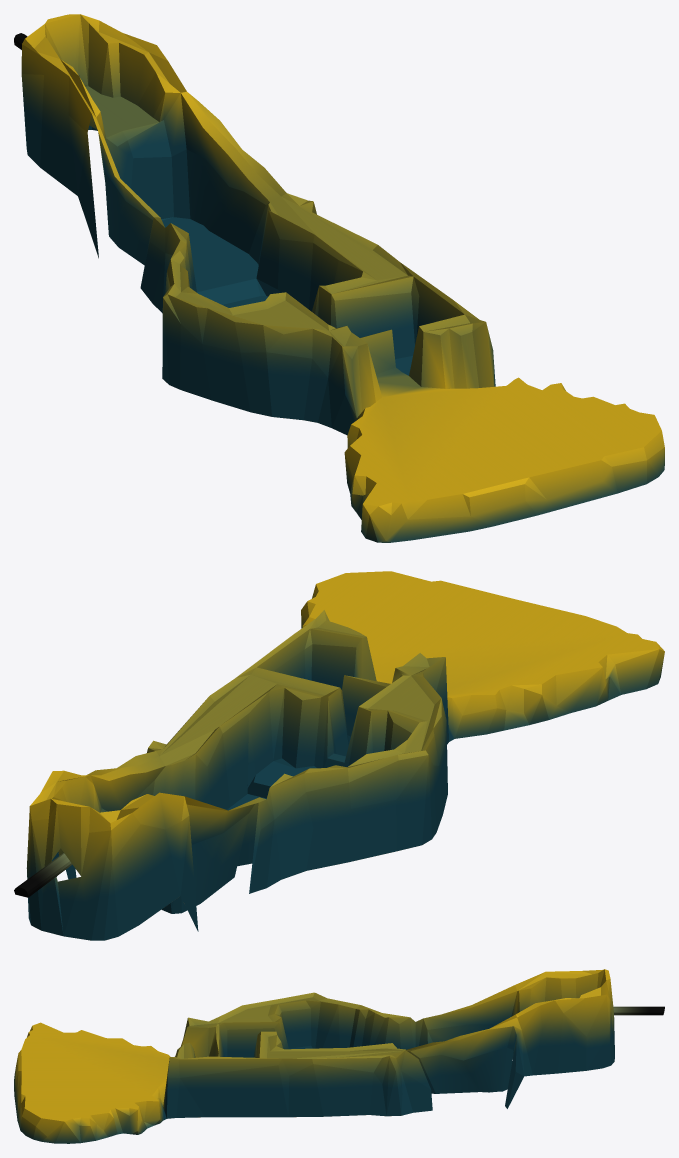
File: Mod_Level6_Versie2.fbx
3 views of the same model, one above another, from view 1: azimuth 30°, elevation 25°; view 2: azimuth 150°, elevation 25°; view 3: azimuth 270°, elevation 25° (orthographic). The views are drawn at different scales.
Parts seen in each view (by area): view 1: MOD_Level6; view 2: MOD_Level6; view 3: MOD_Level6.
Boxes of the visible parts, left/top/right/bottom form: MOD_Level6: left=14, top=14, right=664, bottom=542; MOD_Level6: left=14, top=571, right=664, bottom=940; MOD_Level6: left=14, top=969, right=664, bottom=1143.
Size of the model in its own units: 15.38 by 8.18 by 42.72.
